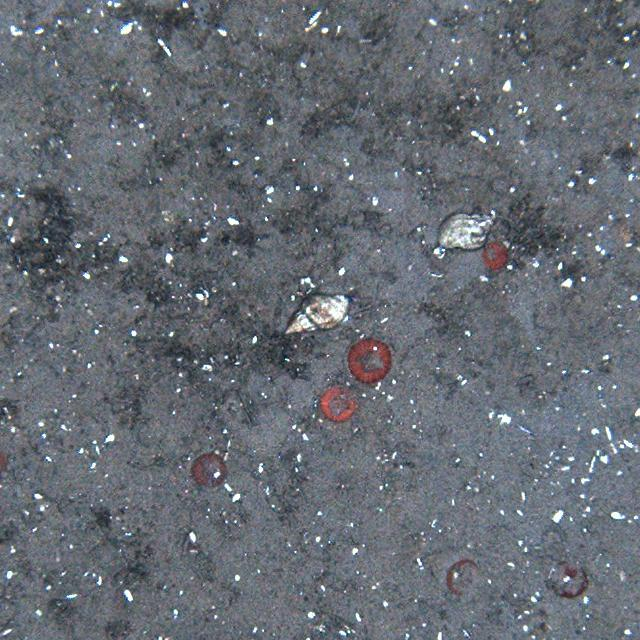whelk: (281, 290, 351, 336)
